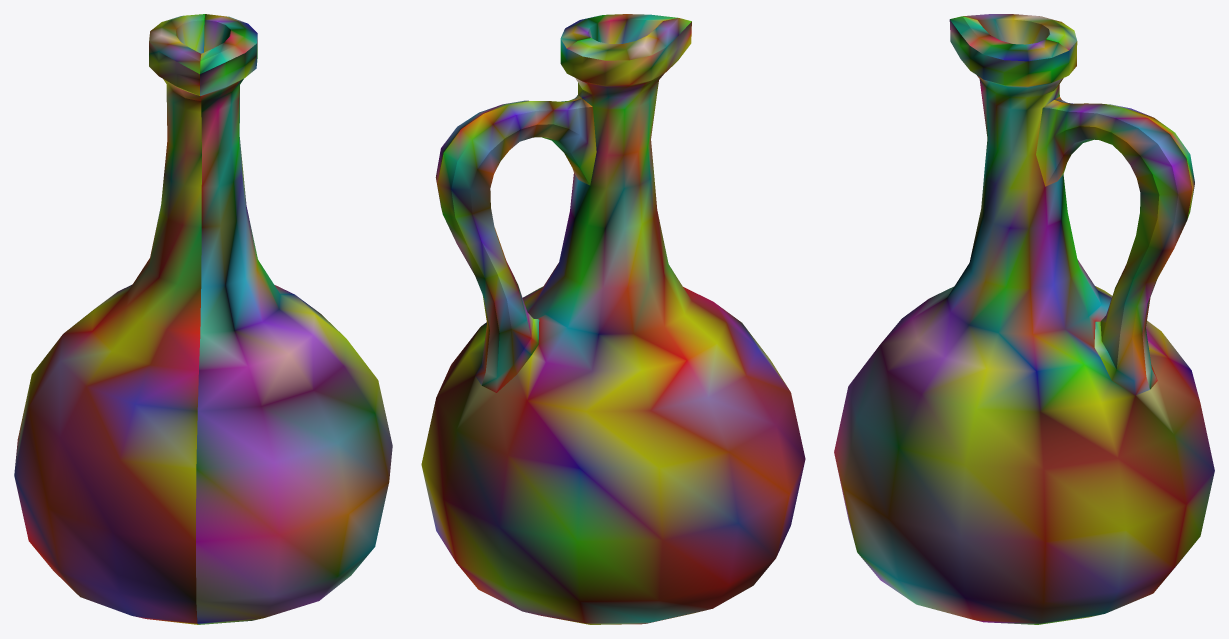
File: Pot02.fbx
3 views of the same model, side by side, from view 1: azimuth 30°, elevation 25°; view 2: azimuth 150°, elevation 25°; view 3: azimuth 270°, elevation 25° (orthographic).
Parts seen in each view (by area): view 1: Pot02; view 2: Pot02; view 3: Pot02.
Part boxes in pixels (left/top/right/bottom): Pot02: left=14, top=14, right=392, bottom=624; Pot02: left=421, top=14, right=805, bottom=624; Pot02: left=834, top=14, right=1214, bottom=624.
Size of the model in its own units: 46.92 by 73.76 by 46.86.
